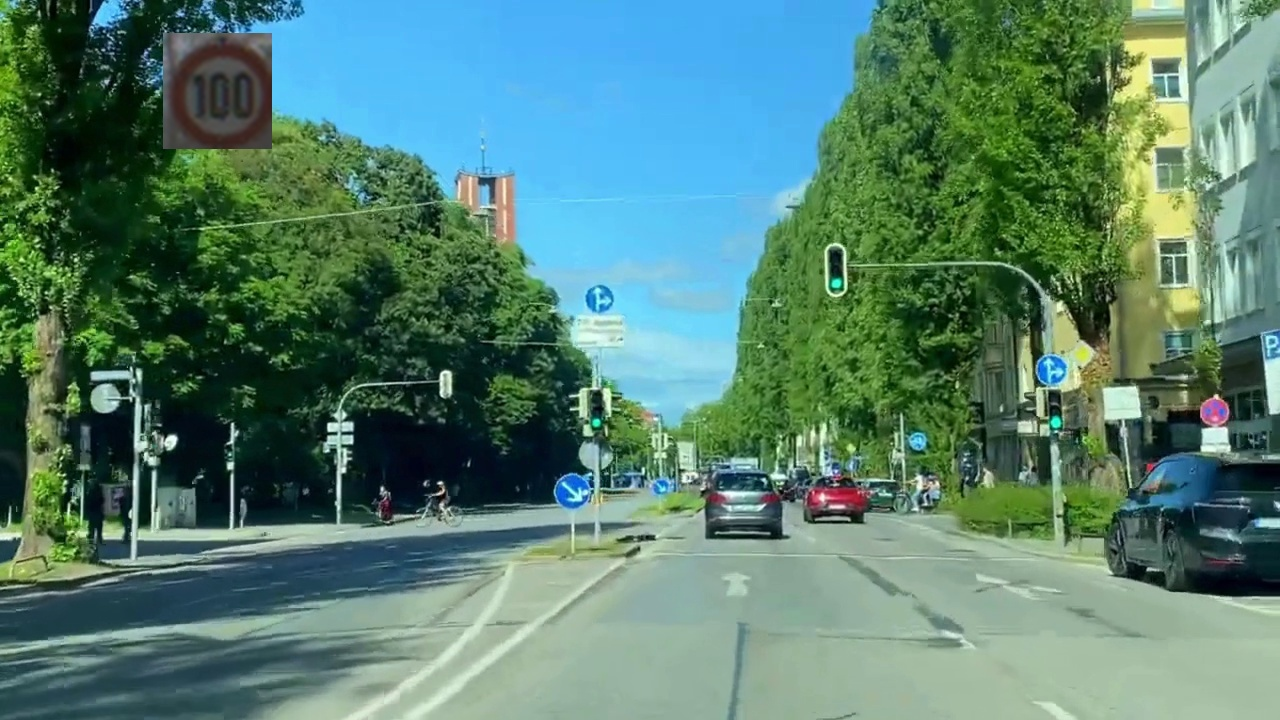Speed 100: (163, 33, 272, 149)
